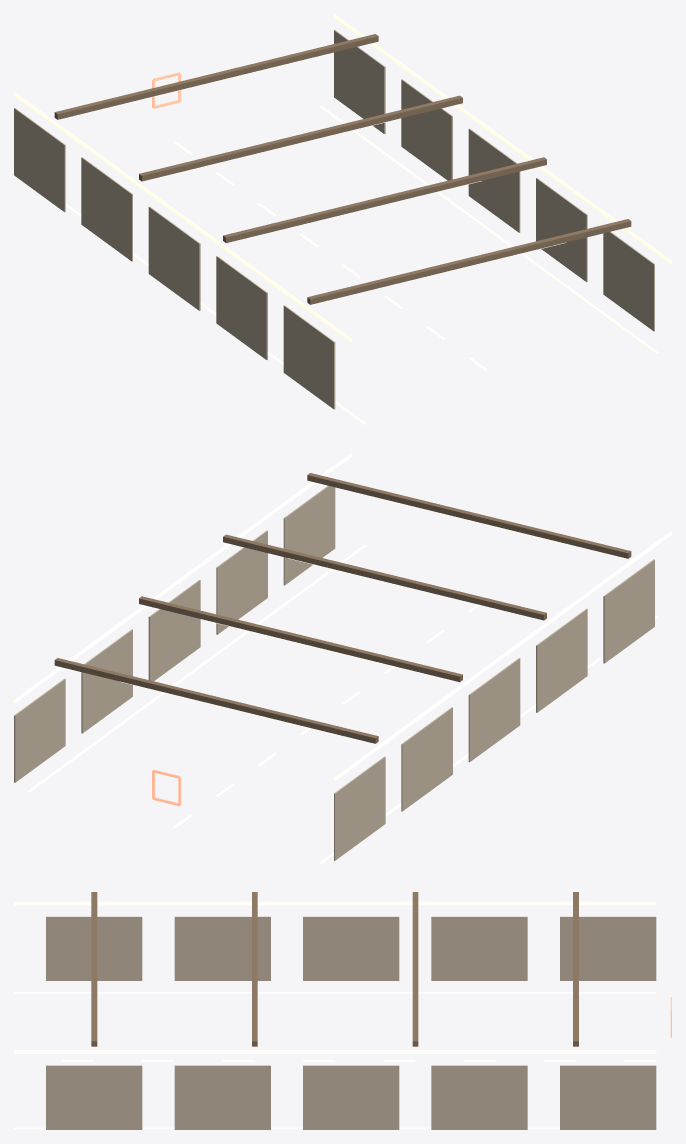
The model's file is range-stop-corridor.glb.
3 renders of one model, top to bottom at view 1: azimuth 30°, elevation 25°; view 2: azimuth 150°, elevation 25°; view 3: azimuth 270°, elevation 25°, orthographic. The views are drawn at different scales.
Visible parts, largest first — view 1: Panel-1_2, Panel-1_4, Panel-1_1, Panel-1_0, Panel-1_3, Panel1_4, Panel1_1, Panel1_0, Panel1_2, Panel1_3, Beam3, Beam0 (+5 smaller); view 2: Panel-1_2, Panel-1_3, Panel1_0, Panel-1_0, Panel-1_1, Panel-1_4, Panel1_2, Panel1_4, Panel1_3, Panel1_1, Beam0, Beam3 (+5 smaller); view 3: Panel1_0, Panel1_1, Panel1_2, Panel1_3, Panel1_4, Panel-1_1, Panel-1_2, Panel-1_3, Panel-1_4, Panel-1_0, TopStrip-1, TopStrip1 (+6 smaller).
Boxes of the visible parts, x1=… form: Panel-1_2: x1=148, y1=206, x2=200, y2=310; Panel-1_4: x1=283, y1=305, x2=335, y2=409; Panel-1_1: x1=81, y1=157, x2=132, y2=261; Panel-1_0: x1=14, y1=108, x2=65, y2=212; Panel-1_3: x1=216, y1=256, x2=267, y2=359; Panel1_4: x1=603, y1=231, x2=654, y2=331; Panel1_1: x1=401, y1=79, x2=452, y2=180; Panel1_0: x1=334, y1=30, x2=385, y2=134; Panel1_2: x1=468, y1=128, x2=520, y2=232; Panel1_3: x1=536, y1=178, x2=587, y2=282; Beam3: x1=307, y1=219, x2=631, y2=304; Beam0: x1=54, y1=34, x2=378, y2=119; Panel-1_2: x1=468, y1=658, x2=520, y2=762; Panel-1_3: x1=536, y1=608, x2=587, y2=712; Panel1_0: x1=14, y1=678, x2=65, y2=782; Panel-1_0: x1=334, y1=756, x2=385, y2=860; Panel-1_1: x1=401, y1=707, x2=452, y2=811; Panel-1_4: x1=603, y1=559, x2=654, y2=663; Panel1_2: x1=148, y1=580, x2=200, y2=681; Panel1_4: x1=283, y1=485, x2=335, y2=585; Panel1_3: x1=216, y1=530, x2=267, y2=634; Panel1_1: x1=81, y1=629, x2=132, y2=733; Beam0: x1=54, y1=658, x2=378, y2=743; Beam3: x1=307, y1=473, x2=631, y2=558; Panel1_0: x1=560, y1=1065, x2=656, y2=1129; Panel1_1: x1=431, y1=1065, x2=527, y2=1129; Panel1_2: x1=303, y1=1065, x2=399, y2=1129; Panel1_3: x1=174, y1=1065, x2=270, y2=1129; Panel1_4: x1=46, y1=1065, x2=142, y2=1129; Panel-1_1: x1=431, y1=916, x2=527, y2=980; Panel-1_2: x1=303, y1=916, x2=399, y2=980; Panel-1_3: x1=174, y1=916, x2=270, y2=980; Panel-1_4: x1=46, y1=916, x2=142, y2=980; Panel-1_0: x1=560, y1=916, x2=656, y2=980; TopStrip-1: x1=14, y1=901, x2=656, y2=905; TopStrip1: x1=14, y1=1050, x2=656, y2=1053.
Bounding box in the file's own units: 11 × 3.24 × 20.49.
